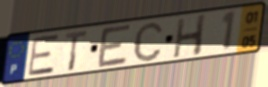1: (219, 9, 237, 54)
C: (131, 20, 165, 64)
E: (96, 22, 133, 70), (26, 33, 60, 78)
H: (171, 13, 208, 60)
T: (63, 29, 90, 73)
